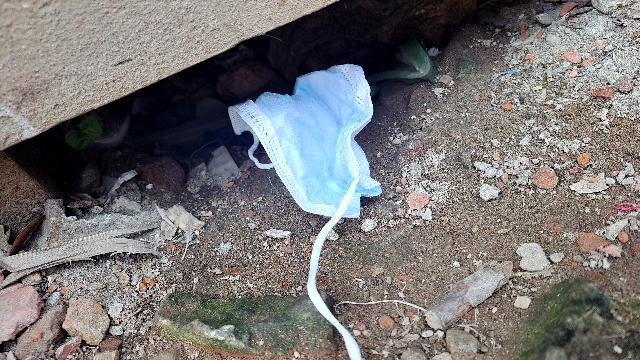mask: (243, 73, 391, 222)
